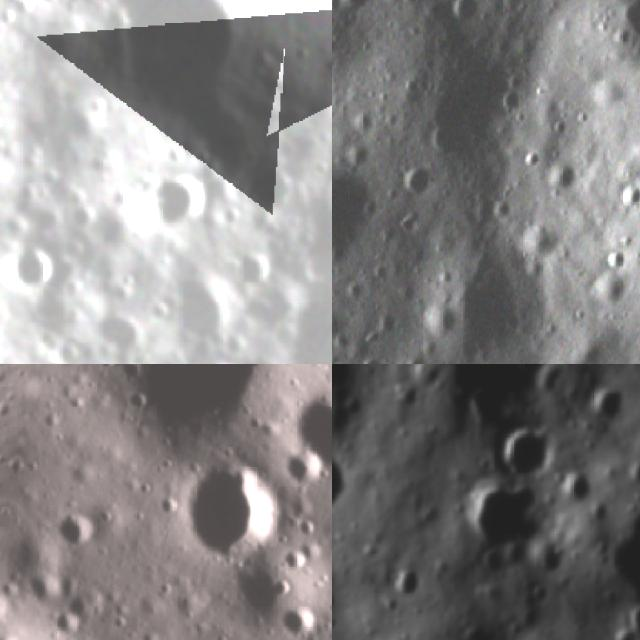crater: (169, 461, 291, 566), (332, 139, 407, 278), (416, 364, 547, 436), (462, 482, 552, 570), (172, 284, 244, 352), (511, 204, 575, 270), (490, 428, 561, 487), (144, 170, 211, 230), (389, 148, 446, 205), (299, 380, 332, 477), (92, 310, 149, 364), (242, 162, 300, 214), (536, 144, 586, 202), (415, 290, 466, 341), (8, 244, 54, 299), (436, 0, 495, 42), (586, 382, 631, 431), (233, 246, 279, 290), (332, 0, 398, 30), (568, 469, 607, 510), (332, 442, 349, 531), (58, 510, 97, 548), (62, 202, 102, 238), (388, 564, 422, 601), (26, 205, 64, 238), (284, 603, 320, 635), (0, 152, 20, 206), (350, 342, 396, 364), (365, 364, 398, 381), (629, 601, 640, 639), (630, 453, 640, 494), (607, 628, 640, 640)
